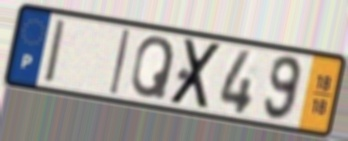4: (218, 47, 254, 116)
9: (262, 55, 304, 124)
I: (43, 16, 69, 87), (108, 26, 133, 97)
Q: (129, 34, 178, 102)
X: (166, 37, 226, 112)
